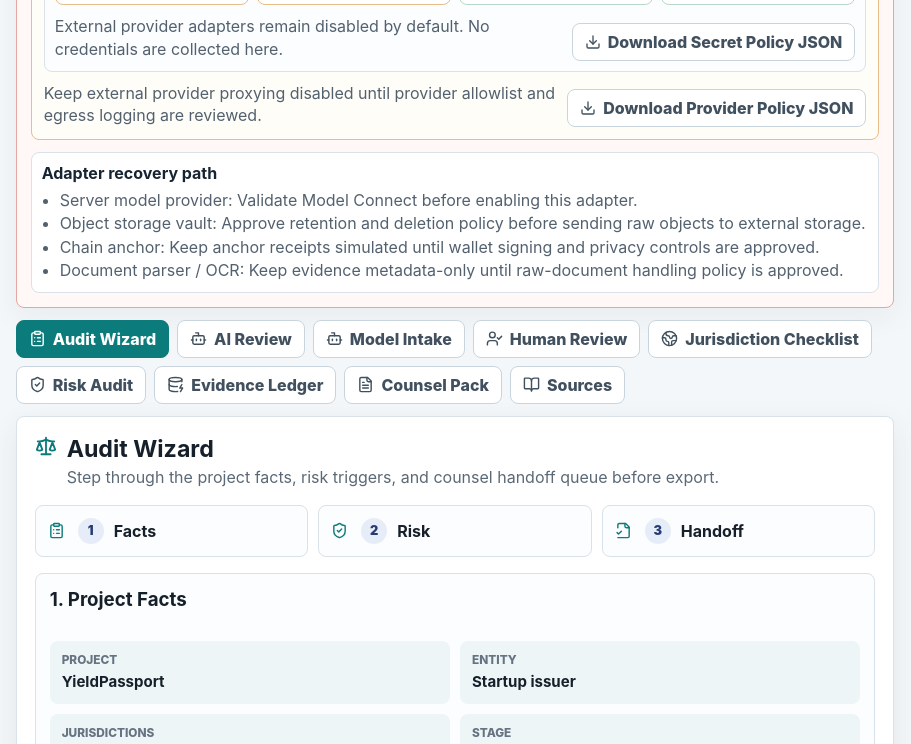
it: App › renders the BLI-focused legal audit workbench with submission-critical surfaces
The image size is (911, 744).
(page scrolled)
Click the button "Evidence Ledger". click: (245, 385)
box: [154,366,336,404]
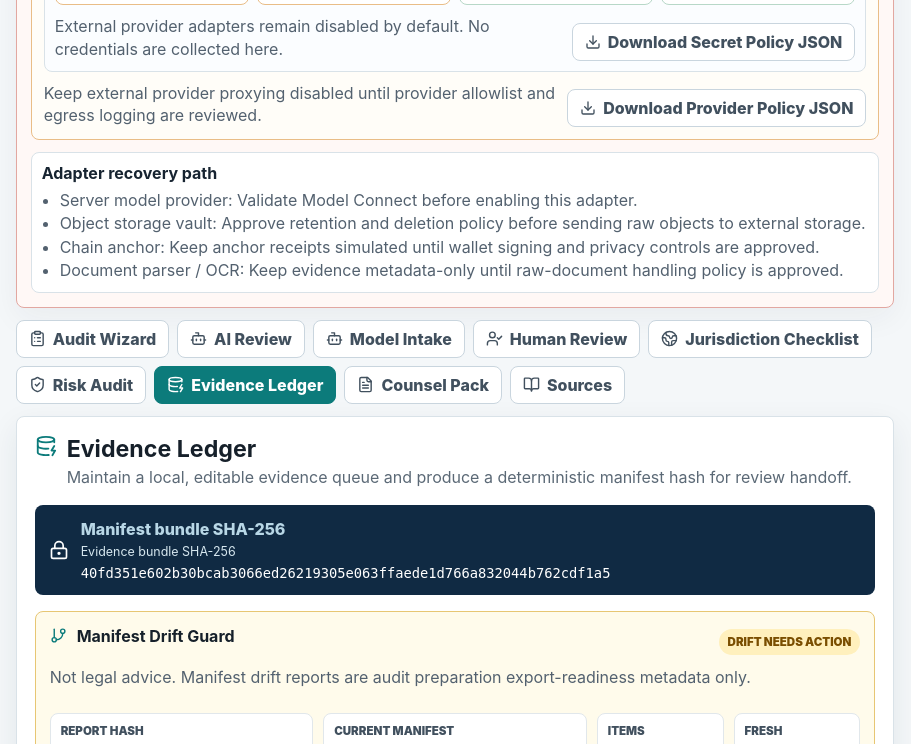
Result: the text "Evidence bundle SHA-256" is shown at [81,544,236,559]
